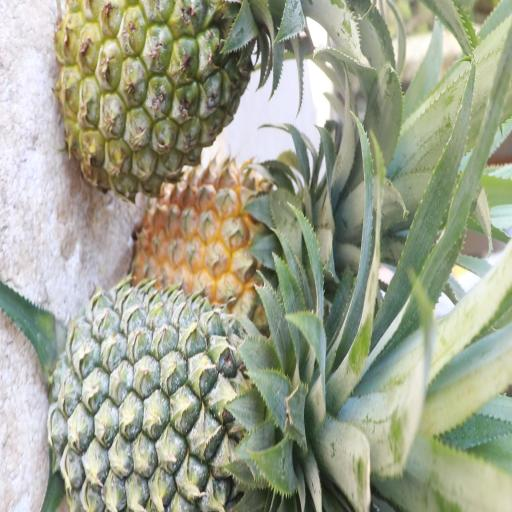------------------------------: (56, 0, 261, 188)
Pineapple - v8 v1: (138, 165, 330, 312)
